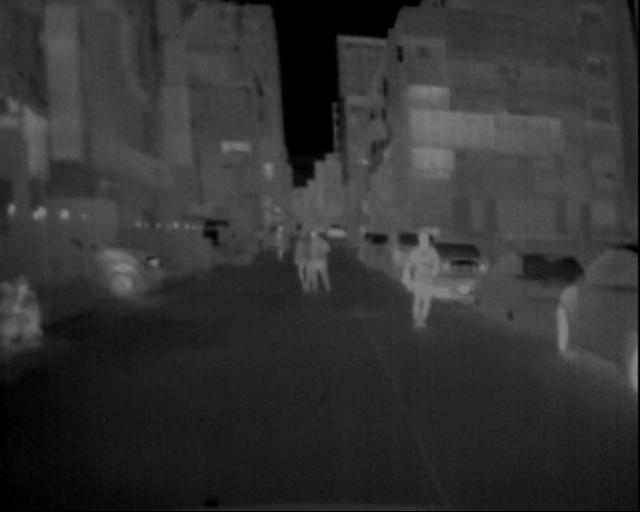person: (407, 209, 452, 331), (293, 203, 323, 289), (313, 215, 338, 286), (275, 213, 299, 262)
